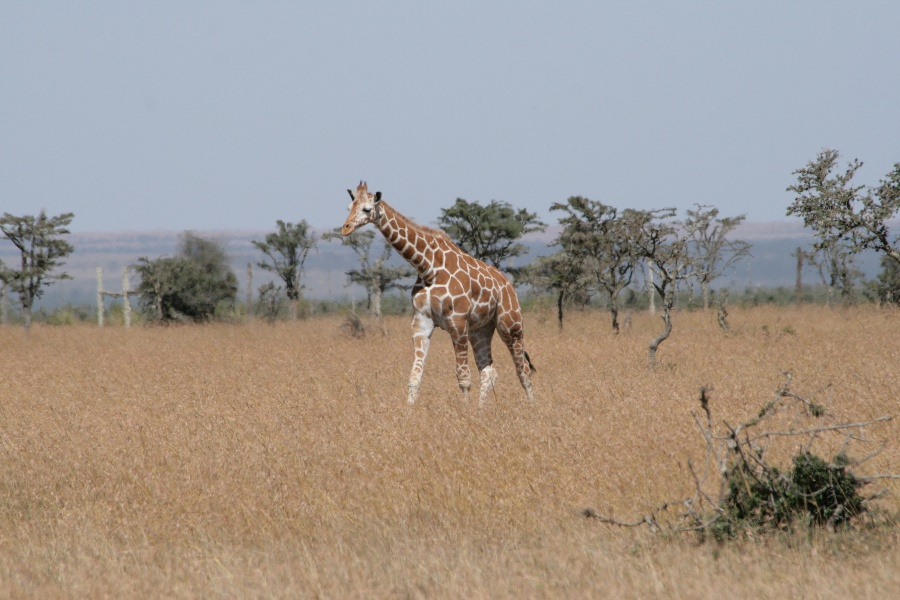giraffe: (334, 171, 543, 411)
